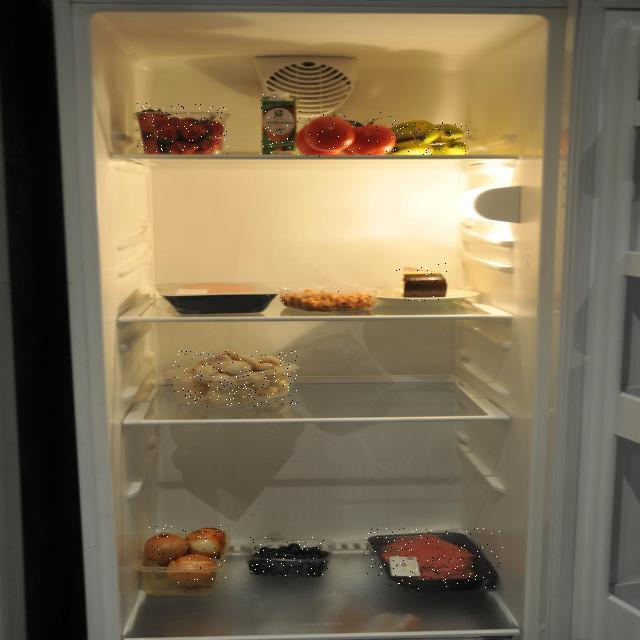Carne vacuno: (365, 529, 504, 591)
Cebolla: (142, 525, 226, 589)
Champiñones: (173, 351, 298, 407)
Gambas/Langostinos: (280, 287, 376, 311)
Plátano: (390, 121, 470, 155)
Queso: (396, 263, 449, 301)
blueberries: (251, 537, 329, 577)
heavy_cream: (260, 91, 300, 156)
strawberries: (137, 103, 228, 154)
tomato paste: (294, 112, 397, 157)
